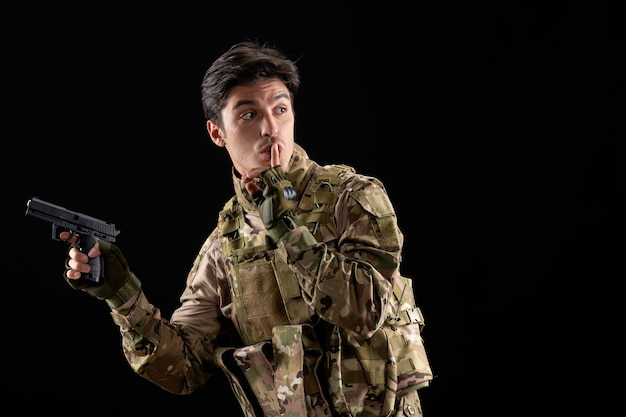gun: (26, 193, 120, 287)
